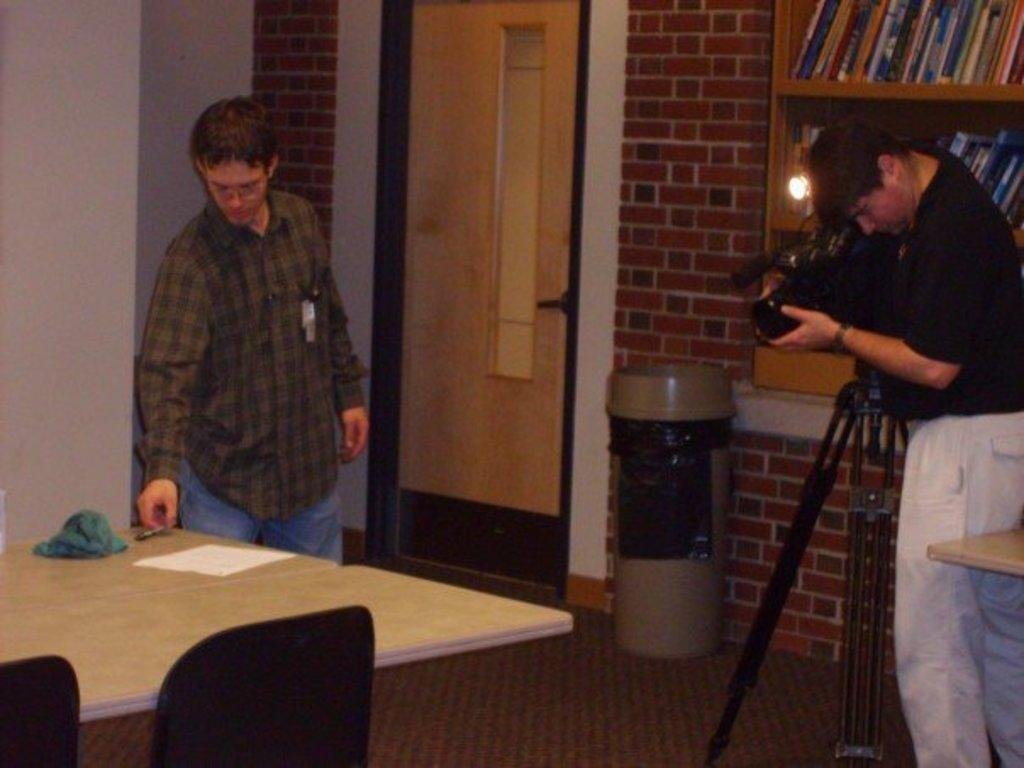Chair: (148, 604, 375, 767), (0, 654, 81, 767)
